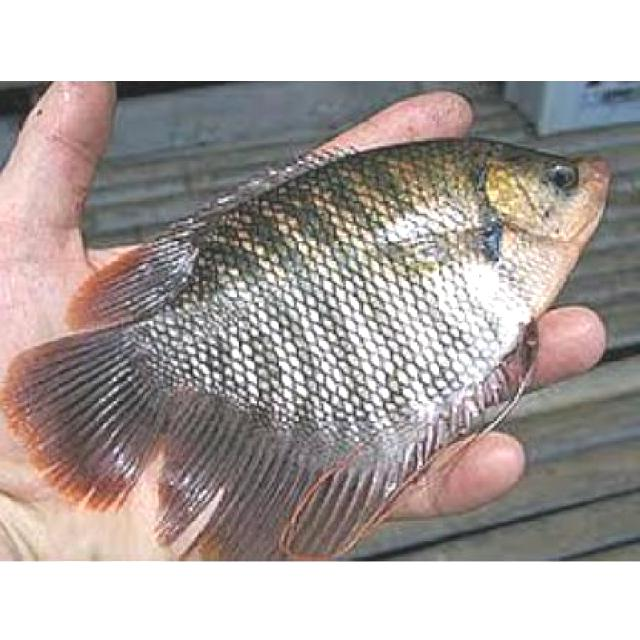gurame: (6, 133, 620, 559)
